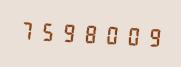eight: (80, 19, 100, 47)
five: (38, 17, 58, 45)
nine: (59, 18, 79, 46), (143, 22, 163, 50)
seven: (17, 16, 37, 44)
zero: (101, 20, 121, 48), (122, 21, 142, 49)
